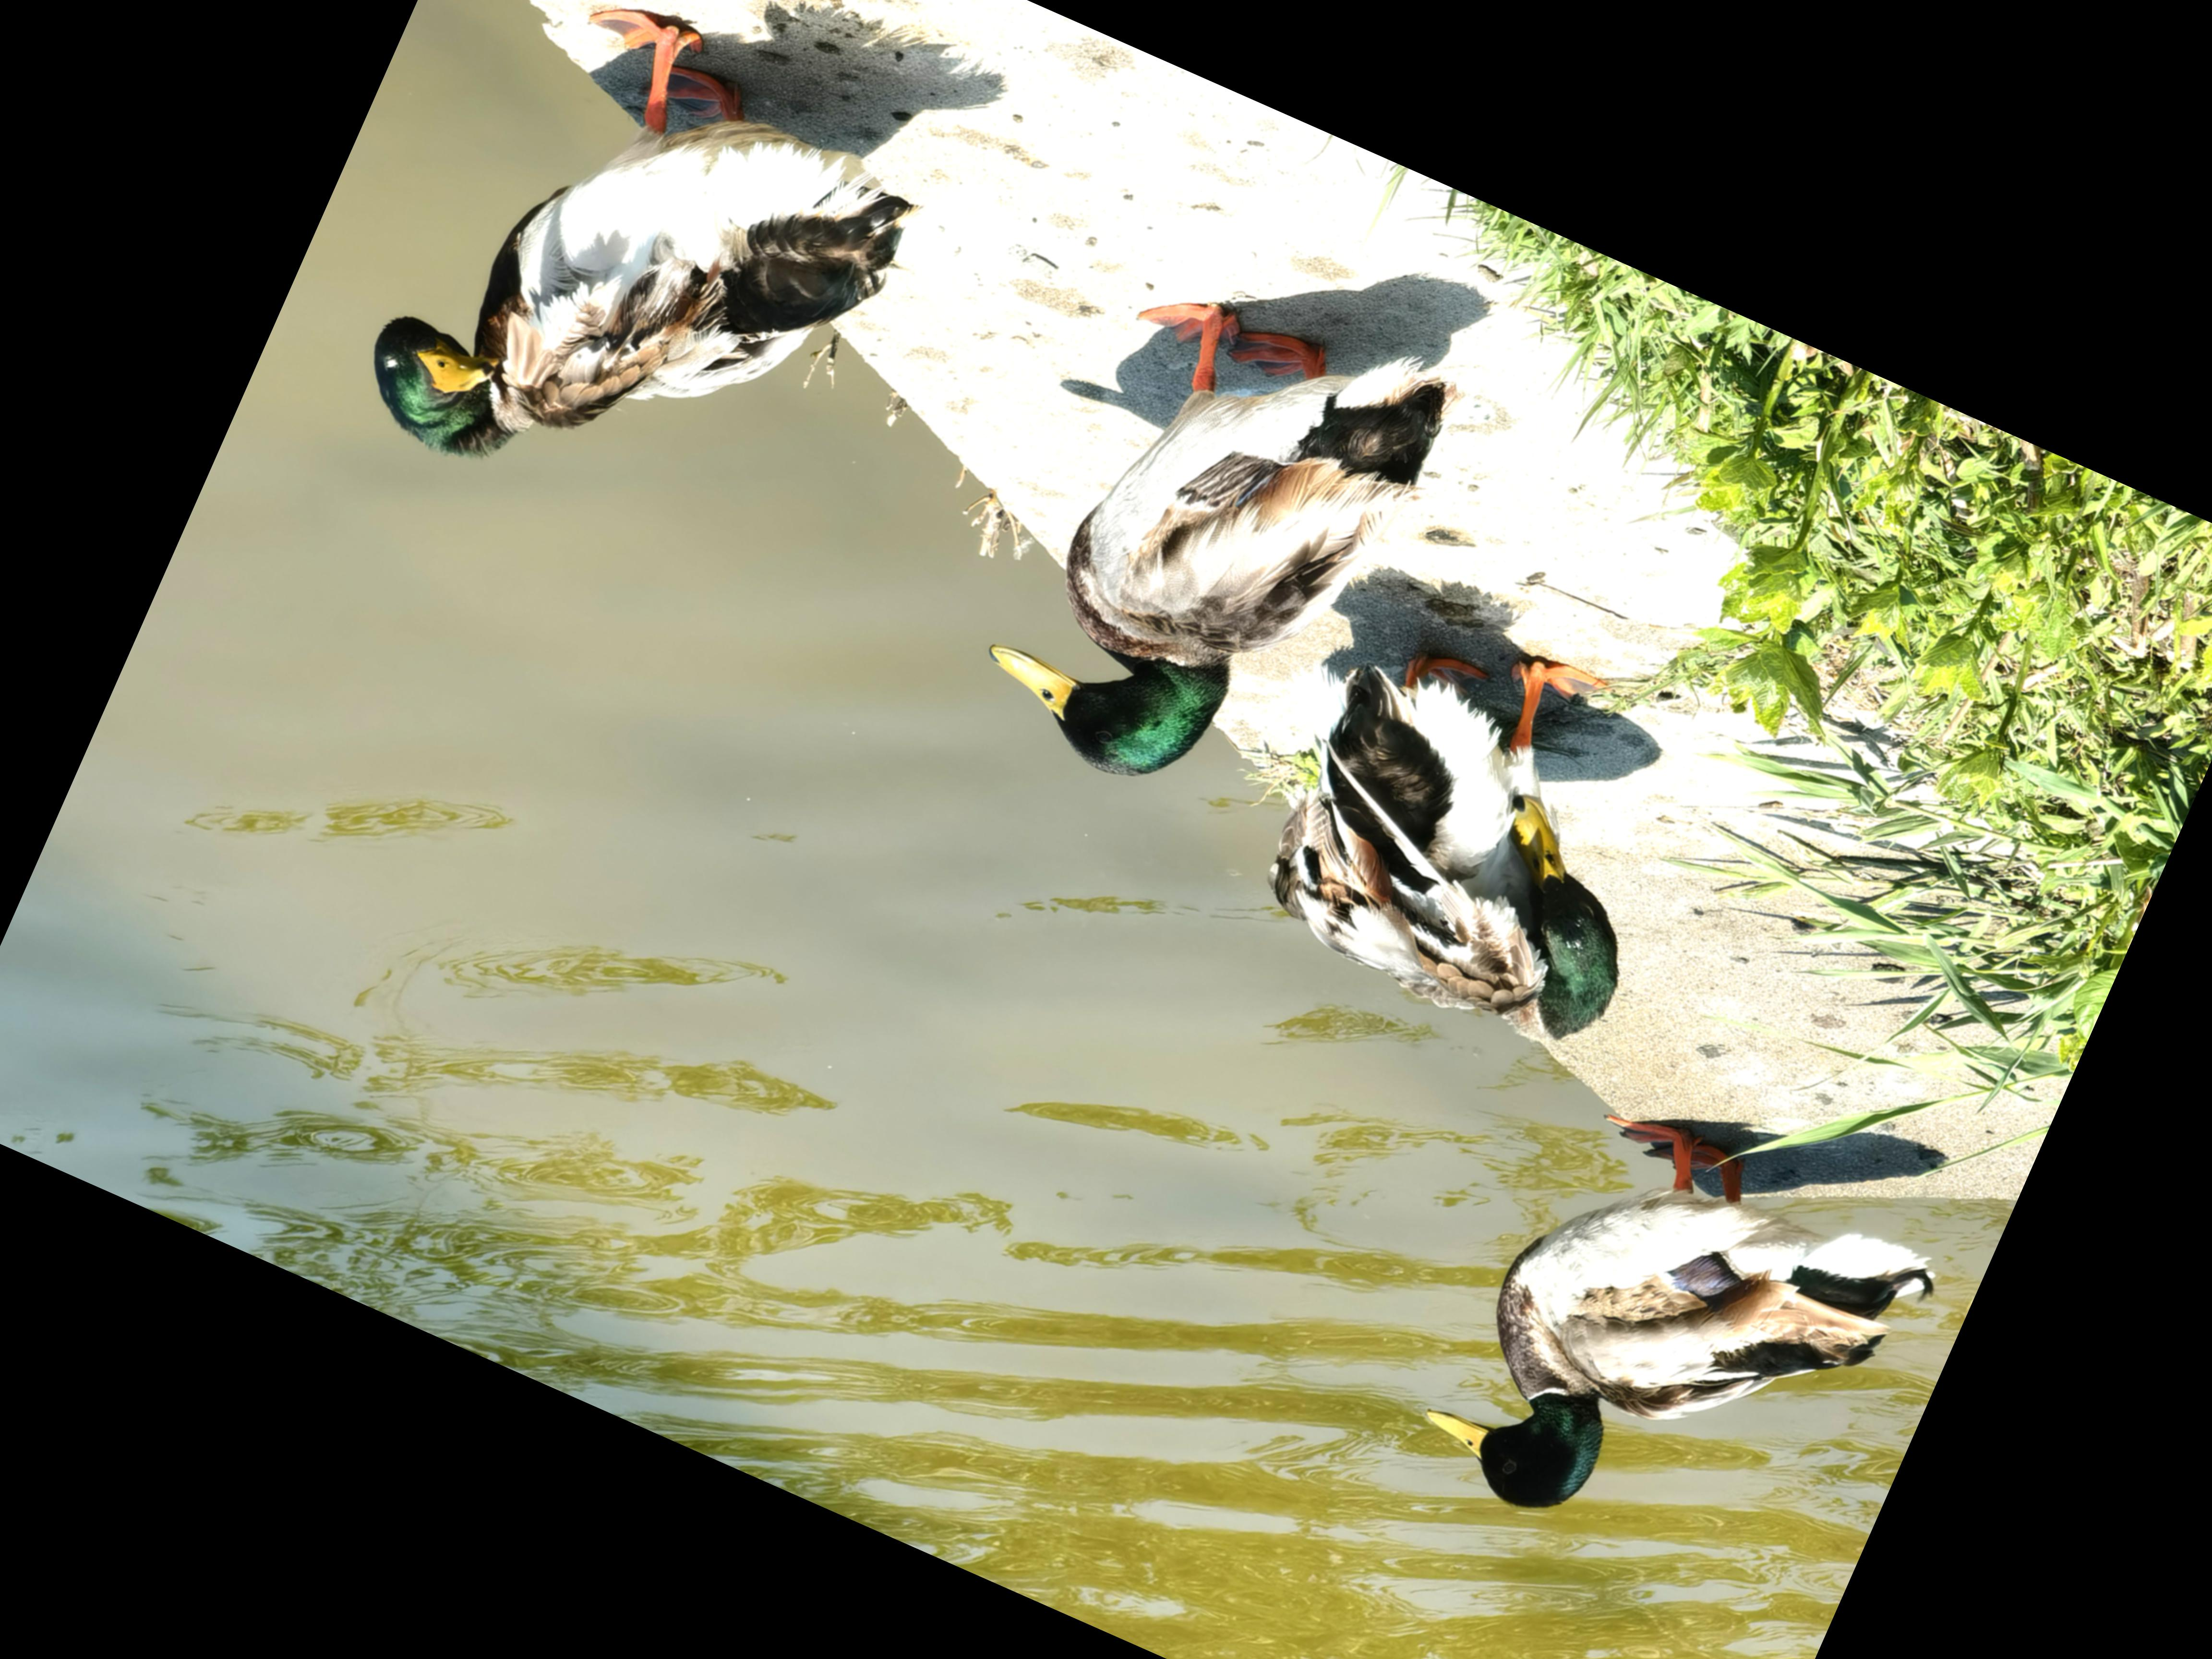duck: (329, 0, 981, 615), (921, 207, 1517, 880), (1378, 1033, 1977, 1650), (1184, 559, 1738, 1086)
